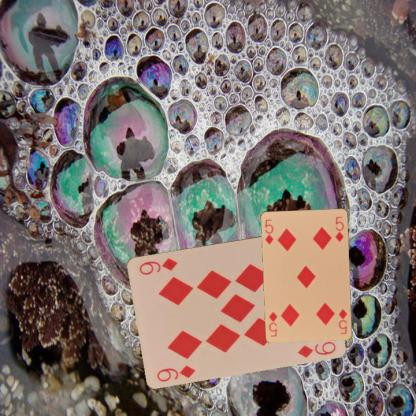5d: (262, 217, 275, 246), (336, 307, 348, 335)
9d: (154, 362, 196, 382)
